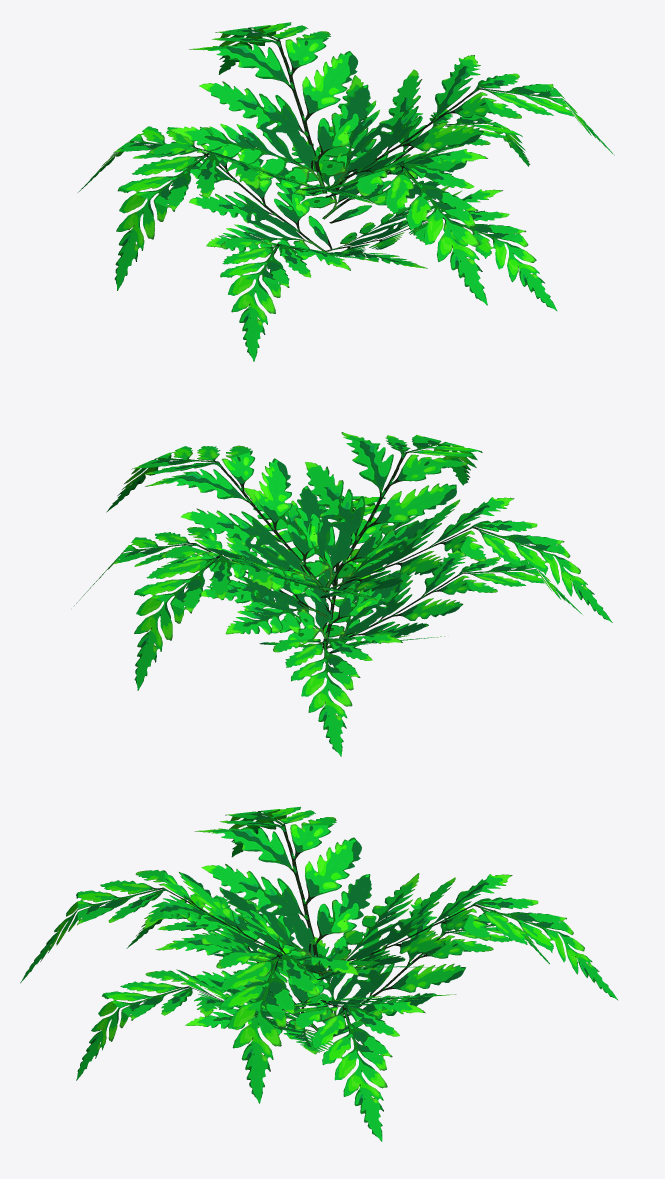
Rendered from GRASS 4.fbx.
3 views of the same model, one above another, from view 1: azimuth 30°, elevation 25°; view 2: azimuth 150°, elevation 25°; view 3: azimuth 270°, elevation 25° (orthographic). The views are drawn at different scales.
Visible parts, largest first — view 1: GRASS 4; view 2: GRASS 4; view 3: GRASS 4.
Part boxes in pixels (bbox=[...]): GRASS 4: bbox=[78, 22, 614, 361]; GRASS 4: bbox=[74, 432, 612, 756]; GRASS 4: bbox=[20, 806, 618, 1141].
Bounding box in the file's own units: 1.42 × 0.3679 × 1.38.
